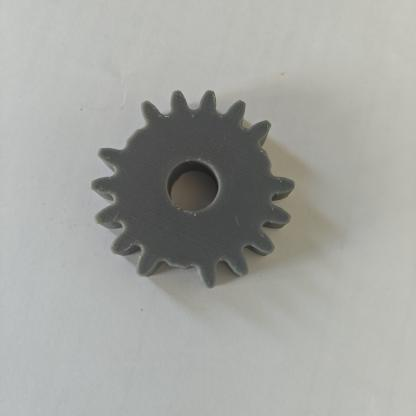defect: (93, 99, 163, 172), (135, 240, 213, 295), (238, 127, 300, 194)
gear: (72, 79, 338, 312)
